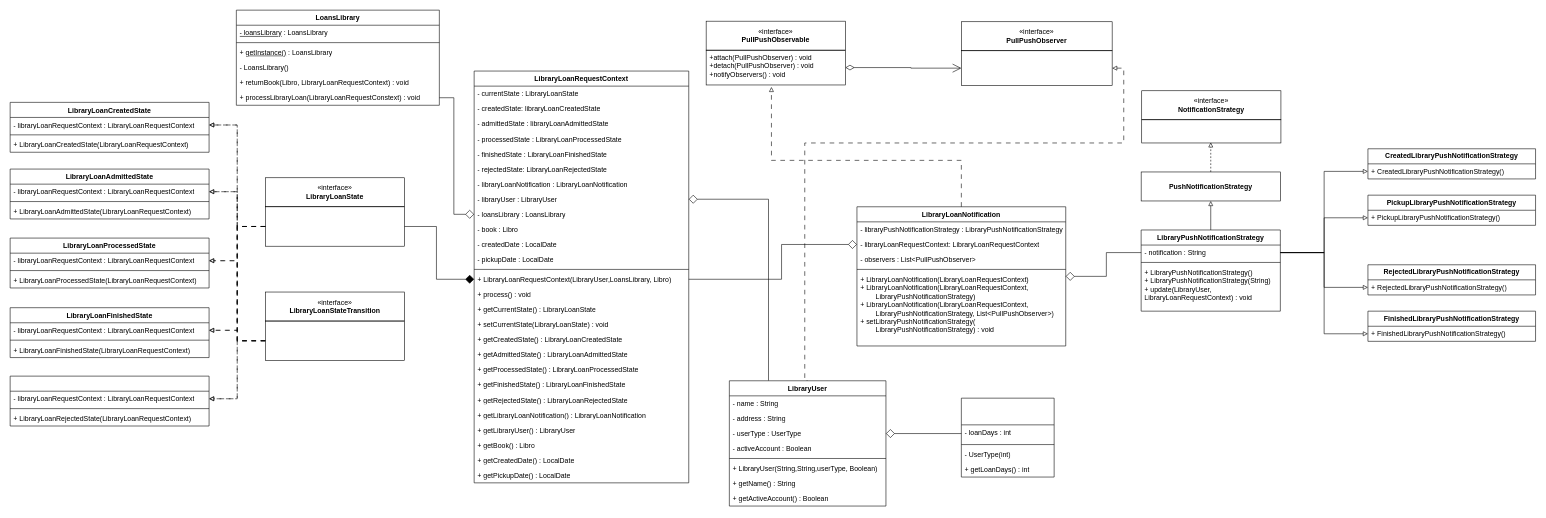
The diagram is 1546 pixels wide and 518 high, and some of its shapes have lost their labels. The shapes that lost their labels are listed below. From the top down, each one's box as (x1, y1, x2, y2) in pixels, then its label:
(961, 50, 1112, 86): +update(PullPushObservable,Object) : void
(1141, 119, 1281, 143): + update(PullPushObserver, Object) : void
(265, 206, 405, 246): + process() : void + getLibraryLoanRequestContext() : LibraryLoanRequestContext
(265, 320, 405, 360): + acceptRequest() + rejectRequest() + pickupBook() + returnBook()
(10, 376, 209, 426): LibraryLoanRejectededState
(961, 398, 1054, 477): <<enum>> UserType
